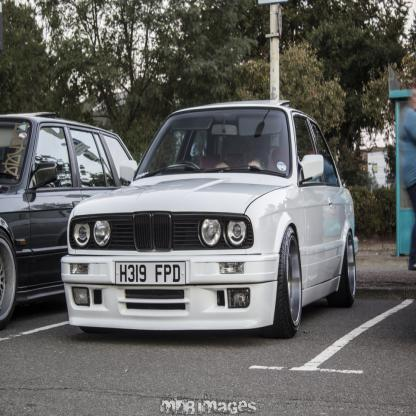Car: (61, 100, 358, 339), (0, 112, 134, 331)
